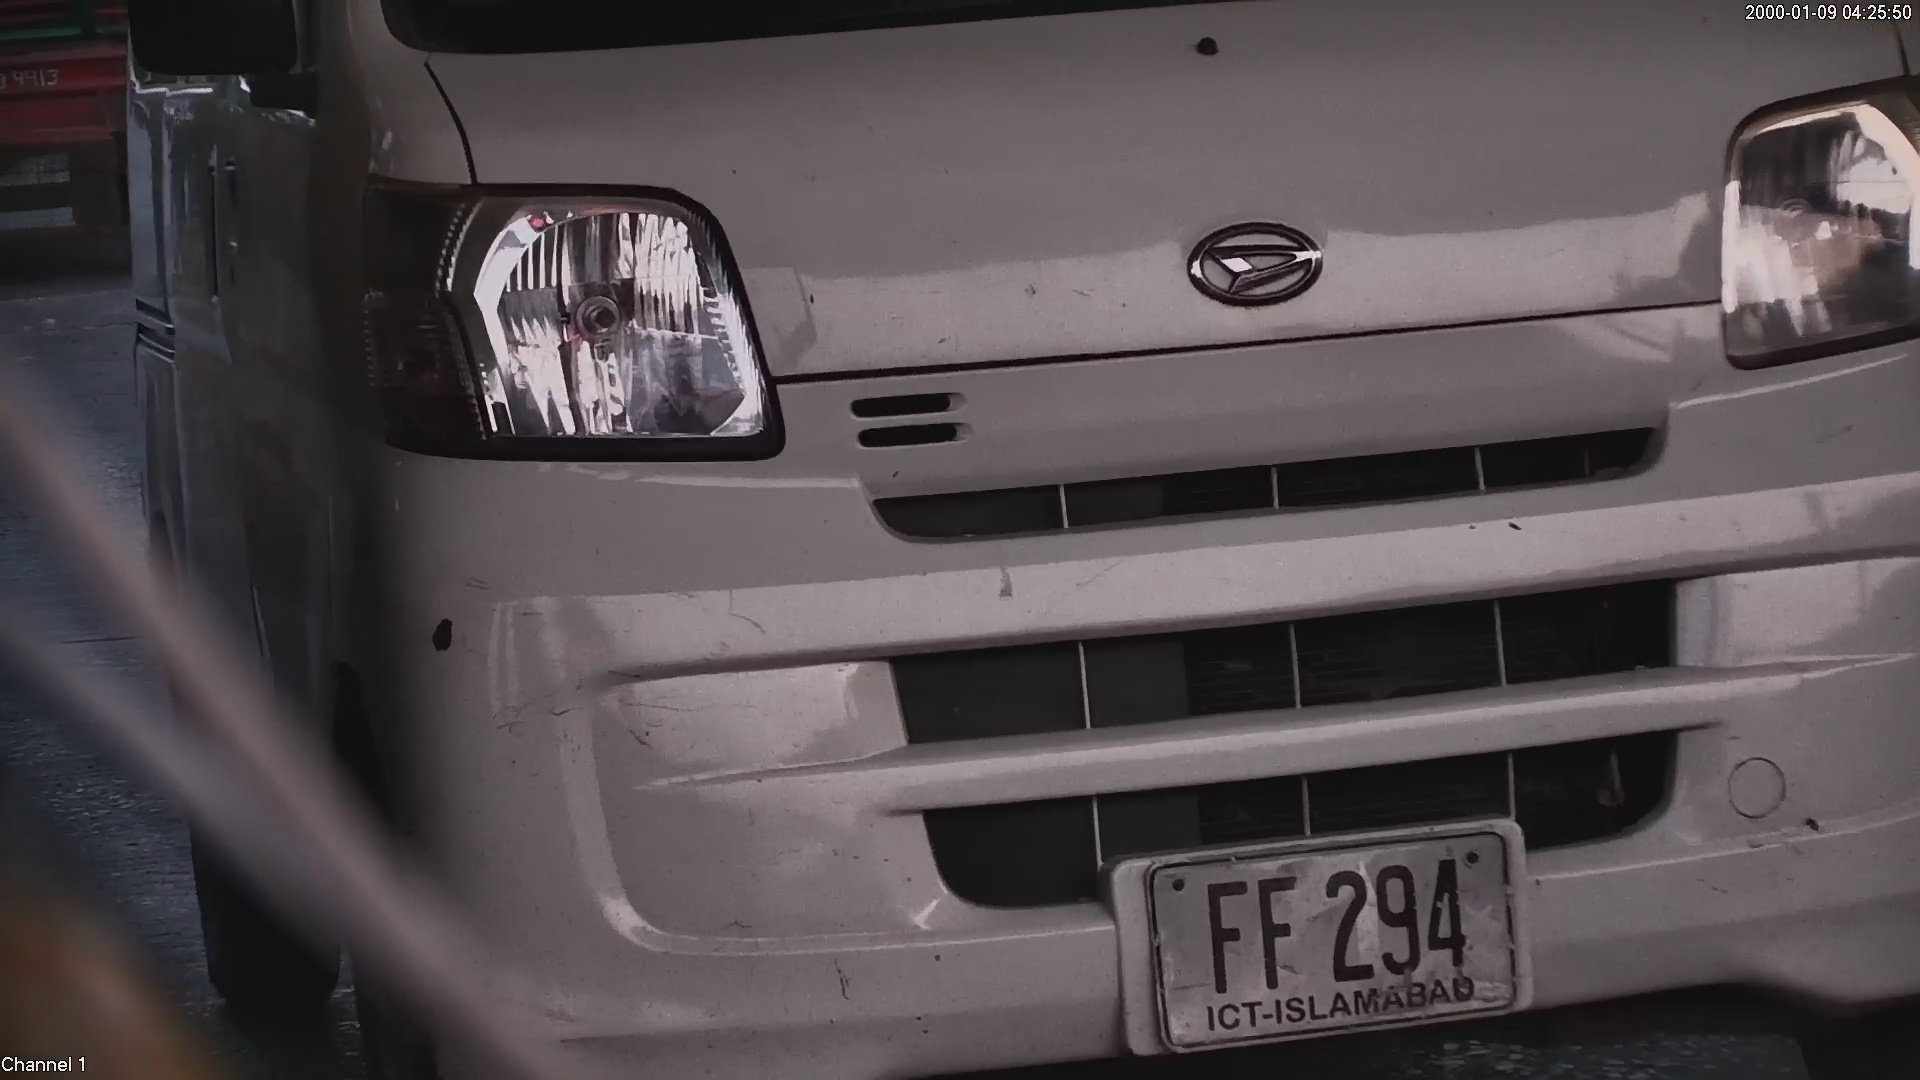Number_Plate: (1113, 820, 1563, 1055)
Undefined: (434, 201, 754, 444), (1200, 223, 1332, 314)
